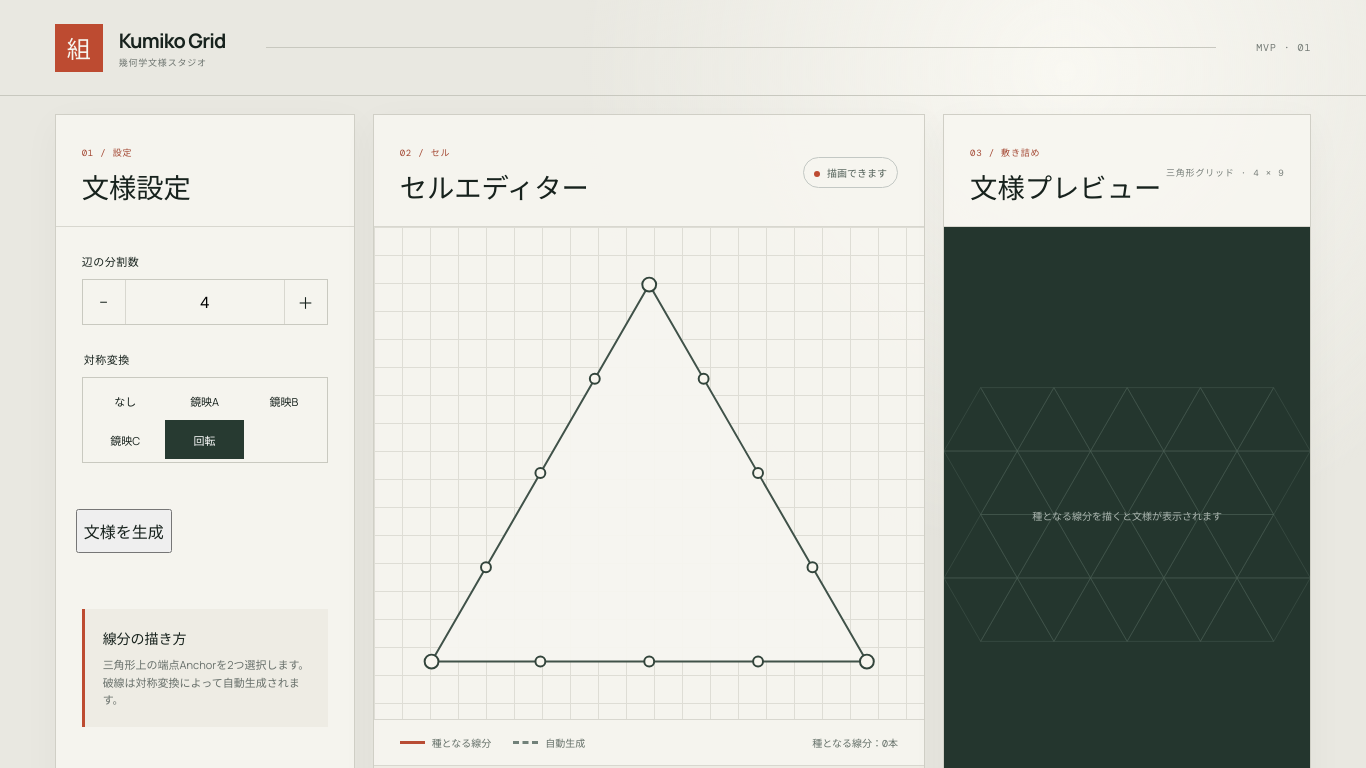
Test case: 非表示化から復帰しても通常のSegment作成の始点を維持する
Click the button "なし" at (125, 400), box [86,381,165,420]
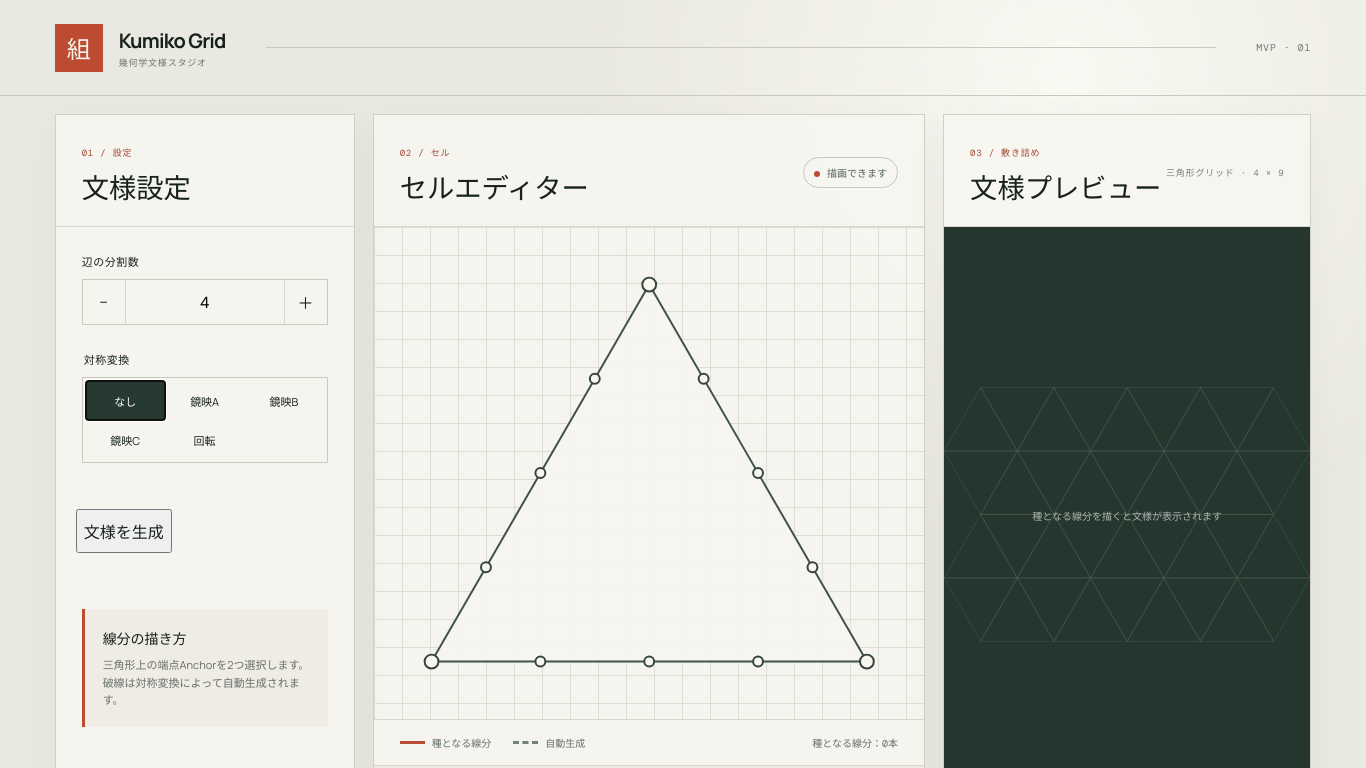
Press Enter in the field labelled "頂点A", box [638,274,660,296]
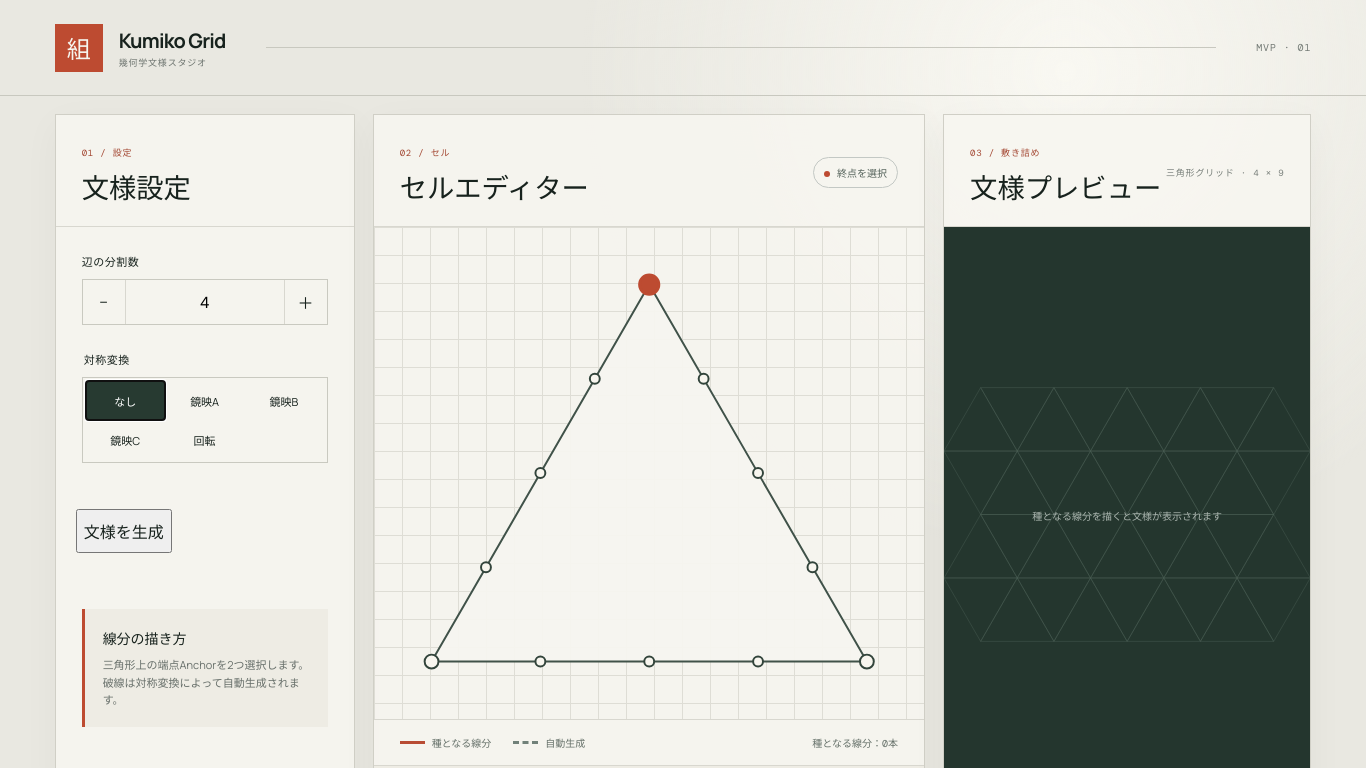
Press Enter in the field labelled "頂点B", box [420,651,442,672]
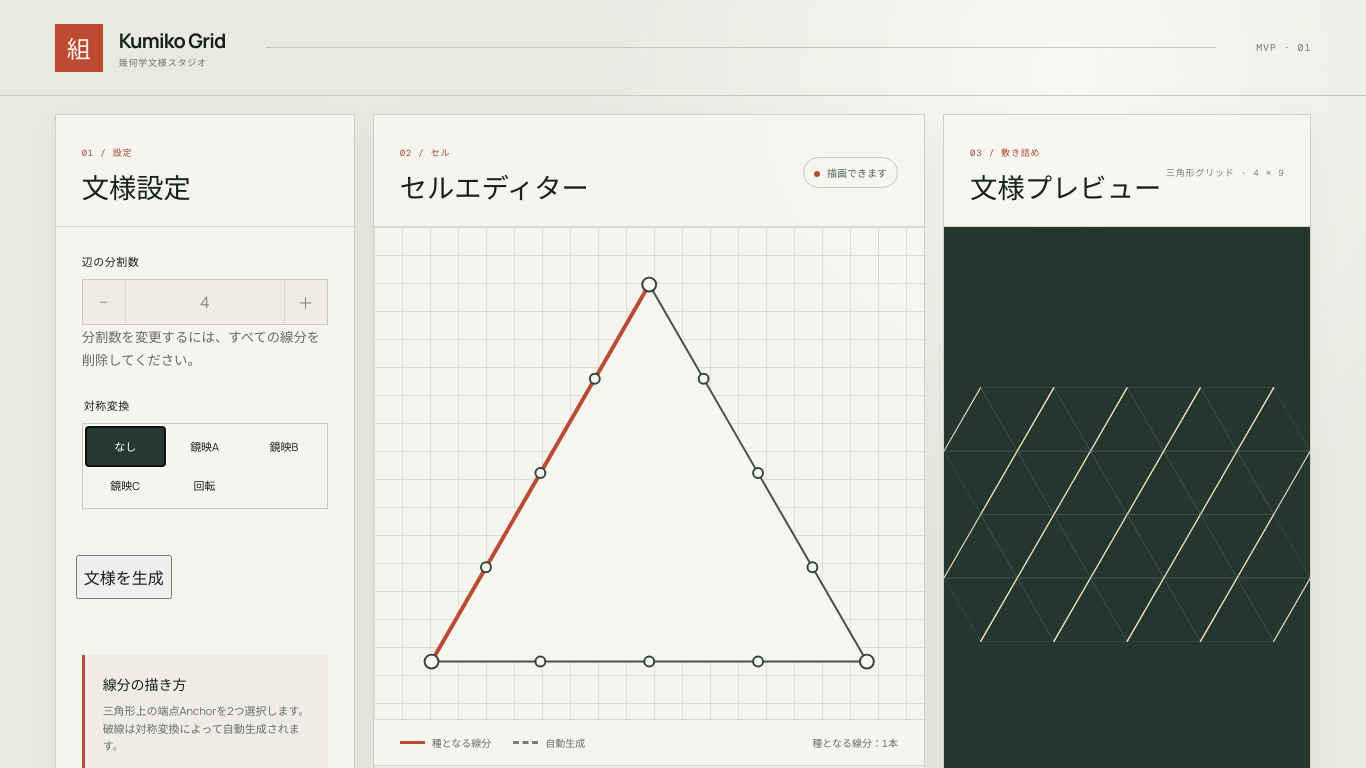
Expected: the text "種となる線分：1本" is shown, [812,735,898,750]
